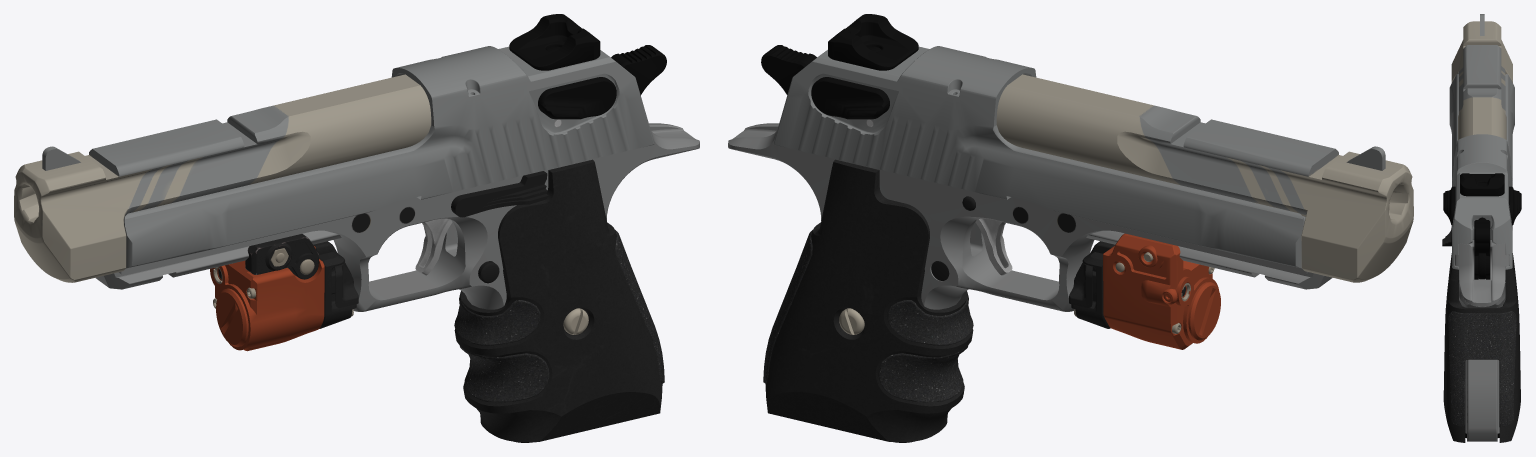
File: Deagle_Cerastes_1.0.fbx
3 renders of one model, left to right at view 1: azimuth 30°, elevation 25°; view 2: azimuth 150°, elevation 25°; view 3: azimuth 270°, elevation 25°, orthographic. The views are drawn at different scales.
Parts seen in each view (by area): view 1: Body 1, Body 6, Grip, Body 5, Laser, Grip Tape, Body 2, Body 8, Body 3, Body 7, Trigger; view 2: Body 1, Body 6, Grip, Body 5, Laser, Grip Tape, Body 2, Body 3, Body 7, Trigger; view 3: Body 1, Body 6, Body 5, Grip Tape, Grip, Body 2, Body 7, Body 3, Body 8, Body 4.
Part boxes in pixels (left/top/right/bottom): Body 1: left=124, top=46, right=654, bottom=268; Body 6: left=14, top=74, right=431, bottom=282; Grip: left=454, top=159, right=662, bottom=442; Body 5: left=95, top=123, right=699, bottom=311; Laser: left=210, top=234, right=358, bottom=351; Grip Tape: left=454, top=230, right=664, bottom=402; Body 2: left=509, top=14, right=600, bottom=70; Body 8: left=451, top=171, right=548, bottom=283; Body 3: left=538, top=77, right=616, bottom=119; Body 7: left=611, top=45, right=666, bottom=95; Trigger: left=415, top=218, right=452, bottom=275; Body 1: left=773, top=46, right=1305, bottom=268; Body 6: left=996, top=74, right=1413, bottom=282; Grip: left=765, top=159, right=973, bottom=442; Body 5: left=728, top=123, right=1332, bottom=311; Laser: left=1069, top=233, right=1220, bottom=349; Grip Tape: left=763, top=230, right=973, bottom=402; Body 2: left=828, top=14, right=918, bottom=70; Body 3: left=811, top=77, right=889, bottom=119; Body 7: left=761, top=45, right=816, bottom=94; Trigger: left=975, top=218, right=1012, bottom=275; Body 1: left=1449, top=74, right=1514, bottom=269; Body 6: left=1451, top=21, right=1512, bottom=279; Body 5: left=1455, top=240, right=1509, bottom=441; Grip Tape: left=1448, top=311, right=1516, bottom=427; Grip: left=1443, top=253, right=1520, bottom=442; Body 2: left=1460, top=173, right=1504, bottom=196; Body 7: left=1474, top=220, right=1490, bottom=279; Body 3: left=1443, top=186, right=1521, bottom=225; Body 8: left=1442, top=225, right=1505, bottom=282; Body 4: left=1480, top=14, right=1484, bottom=35.
Bounding box in the file's own units: 5892 × 3374 × 964.
